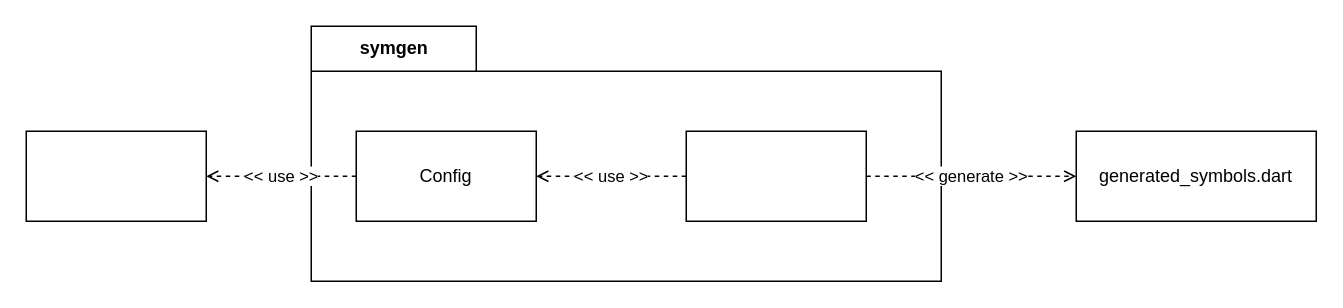
The diagram is 1343 pixels wide and 308 high, and some of its shapes have lost their labels. Here are the shapes that lost their labels. From the top down, the box of each, then its label:
(25, 130, 206, 221): symgen.yaml
(685, 130, 866, 221): Generator
